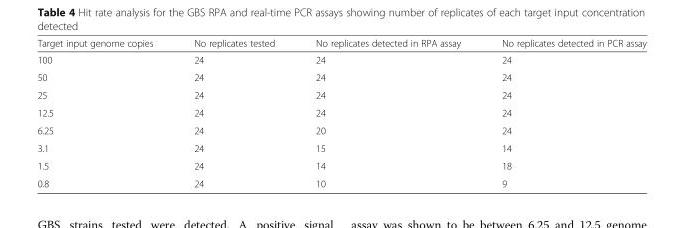table: (36, 37, 646, 188)
table column: (294, 37, 480, 188), (480, 37, 646, 188), (36, 37, 172, 188), (172, 37, 294, 188)
table column header: (36, 37, 646, 50)
table row: (36, 50, 646, 68), (36, 85, 646, 103), (36, 103, 646, 121), (36, 138, 646, 156), (36, 156, 646, 174), (36, 68, 646, 85), (36, 121, 646, 138), (36, 174, 646, 188), (36, 37, 646, 50)
